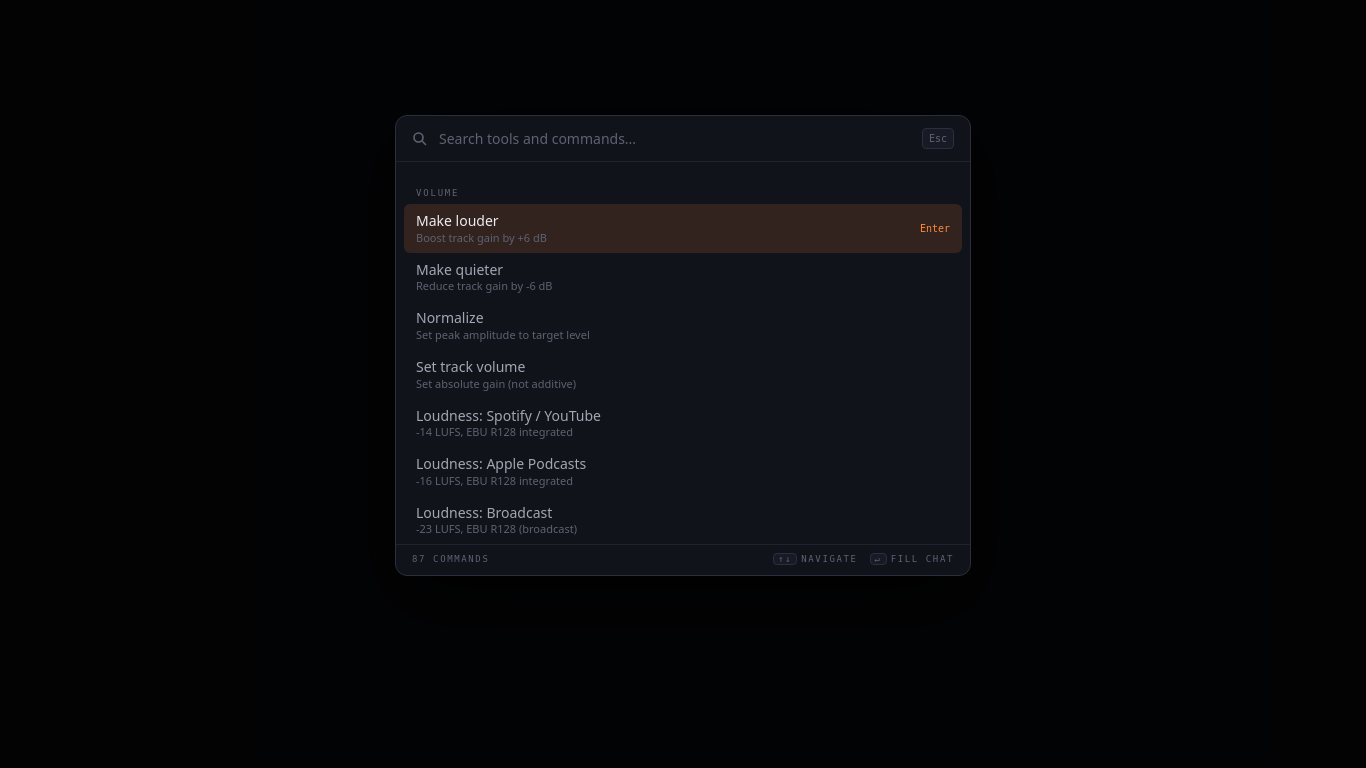
typing in the palette › says so when nothing matches
Step 1. Type "zzzzz-no-such-command" into the field named "Search commands" → point(674, 139), box x1=439 y1=129 x2=910 y2=149
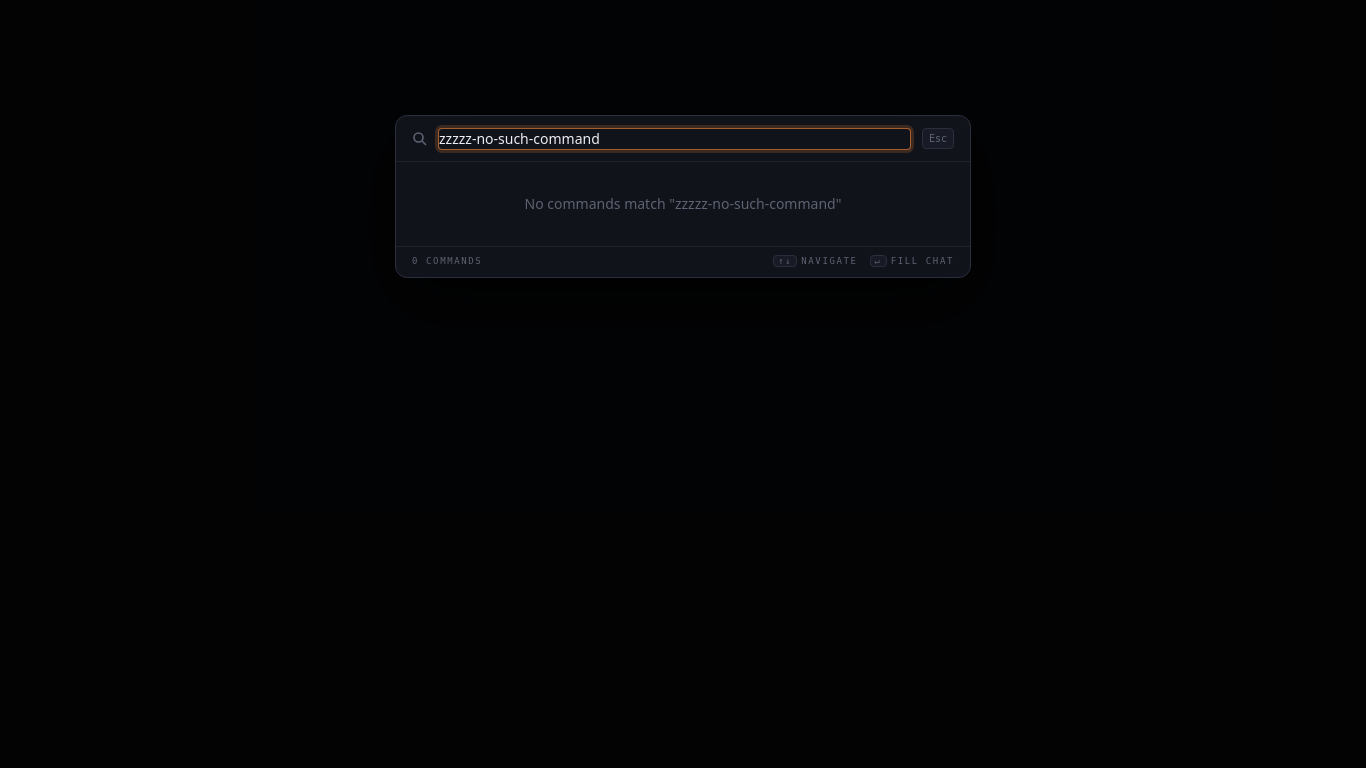
Expected: the text "No commands match \"zzzzz-no-such-command\"" is shown, x1=525 y1=194 x2=841 y2=213
